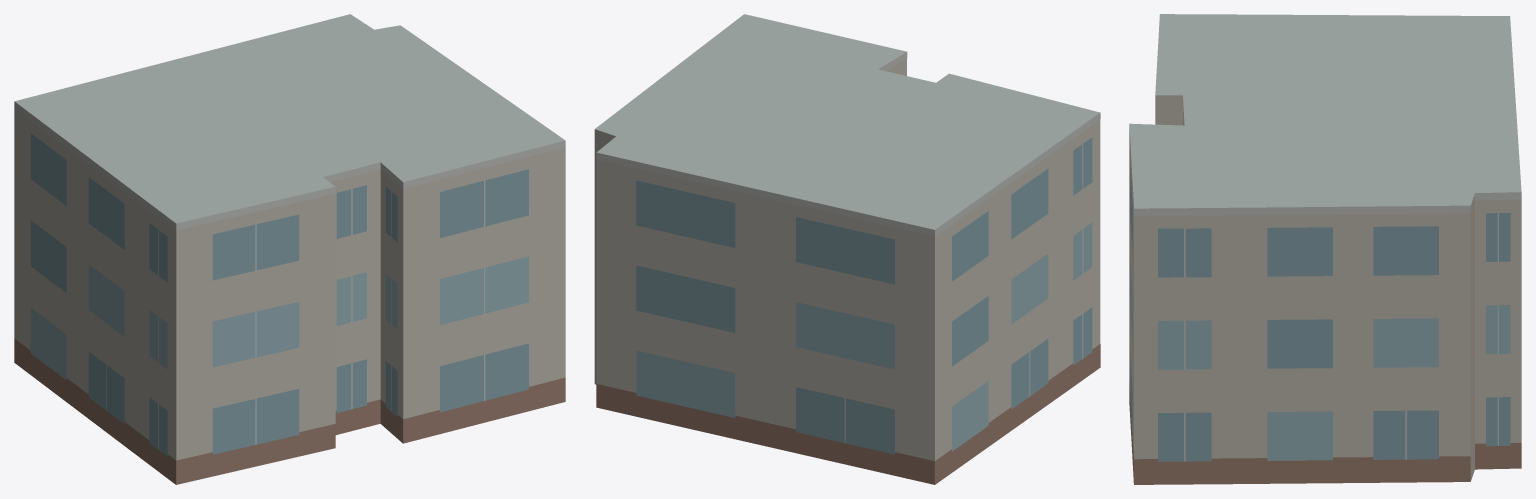
The model's file is survey-upis-32496310.glb.
3 renders of one model, left to right at view 1: azimuth 30°, elevation 25°; view 2: azimuth 150°, elevation 25°; view 3: azimuth 270°, elevation 25°, orthographic. The views are drawn at different scales.
Parts seen in each view (by area): view 1: survey-upis-32496310.tmp; view 2: survey-upis-32496310.tmp; view 3: survey-upis-32496310.tmp.
Boxes of the visible parts, <box> form: survey-upis-32496310.tmp: <box>14,14,565,484</box>; survey-upis-32496310.tmp: <box>594,14,1100,484</box>; survey-upis-32496310.tmp: <box>1129,14,1521,484</box>.
Bounding box in the file's own units: 13.9 × 9.2 × 11.85.
